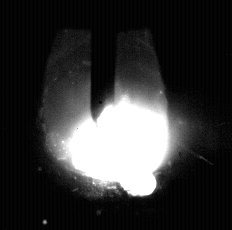arame: (91, 0, 116, 121)
poca: (44, 0, 169, 230)
